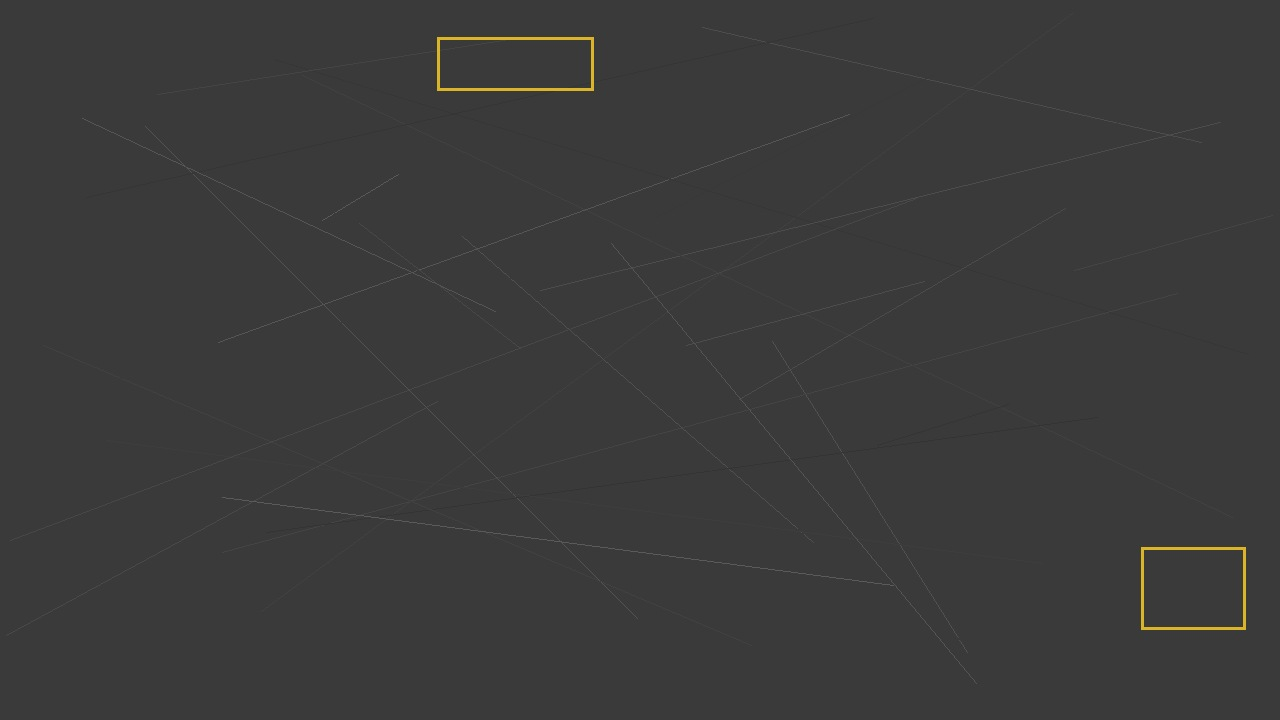D00: (1141, 547, 1245, 629), (437, 37, 593, 90)
